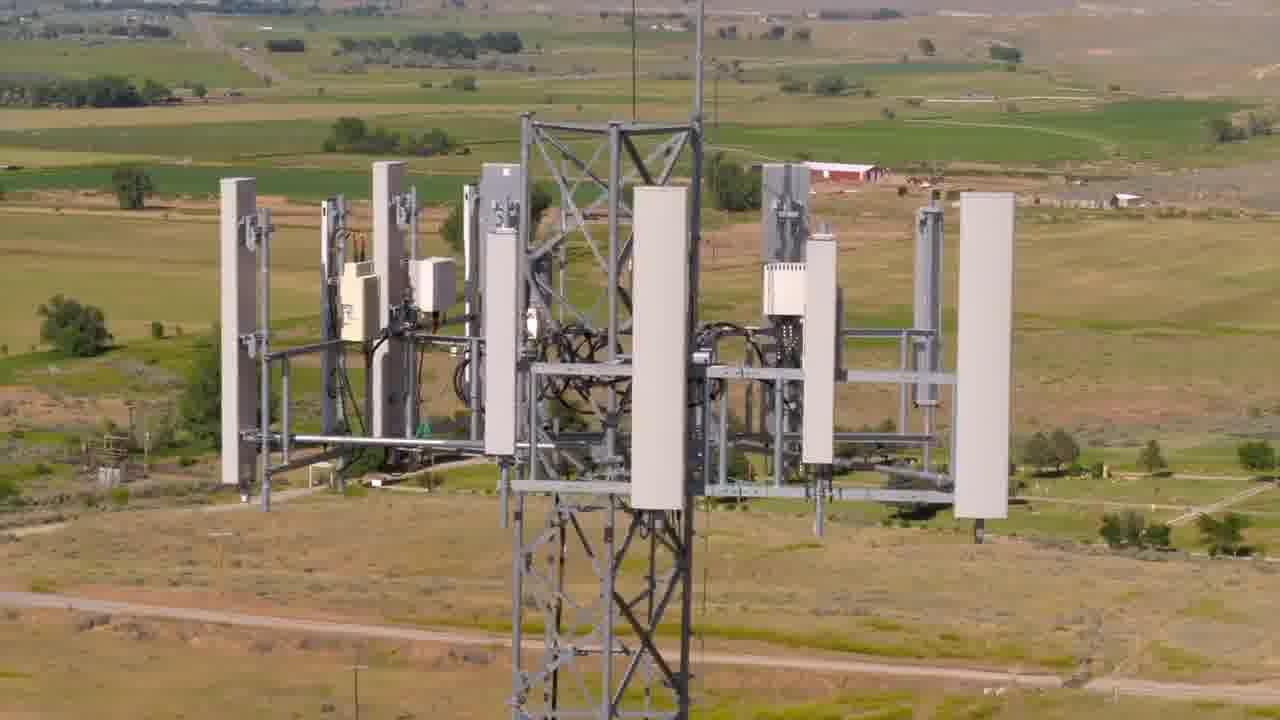antenna: (944, 184, 1019, 534), (628, 179, 702, 519), (474, 218, 538, 532), (220, 169, 277, 500), (370, 154, 421, 447), (799, 228, 843, 467), (913, 193, 948, 414)
